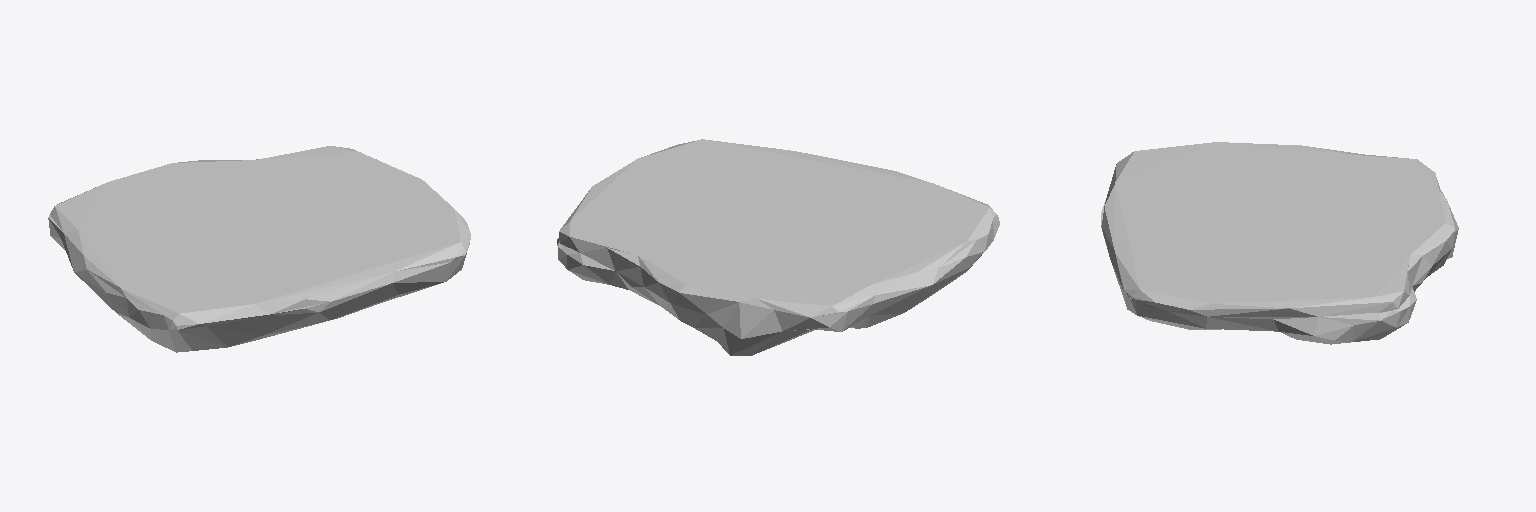
File: M_RockSlab_01.OBJ
3 views of the same model, side by side, from view 1: azimuth 30°, elevation 25°; view 2: azimuth 150°, elevation 25°; view 3: azimuth 270°, elevation 25° (orthographic).
Parts seen in each view (by area): view 1: Group26566; view 2: Group26566; view 3: Group26566.
Part boxes in pixels (x1,y1,x2,y2): Group26566: (48, 146, 470, 352); Group26566: (557, 139, 999, 355); Group26566: (1101, 142, 1458, 344).
Bounding box in the file's own units: 11 × 1.97 × 9.8.